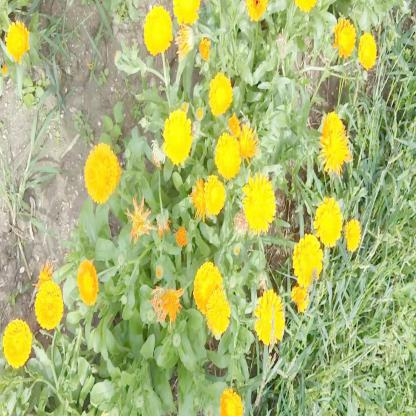marigold: (242, 174, 274, 232), (85, 143, 117, 201), (321, 113, 350, 176), (254, 291, 284, 346), (162, 109, 191, 162), (144, 5, 173, 54), (295, 236, 323, 283), (3, 318, 30, 366), (318, 196, 343, 244), (36, 283, 61, 330), (216, 132, 240, 180), (195, 266, 221, 310), (205, 290, 229, 334), (202, 175, 226, 217), (334, 16, 358, 56), (210, 73, 233, 114), (77, 263, 98, 307), (5, 21, 28, 61), (193, 178, 212, 217), (218, 386, 242, 416), (358, 30, 376, 67), (174, 0, 200, 23), (240, 125, 256, 161), (346, 218, 361, 252)
